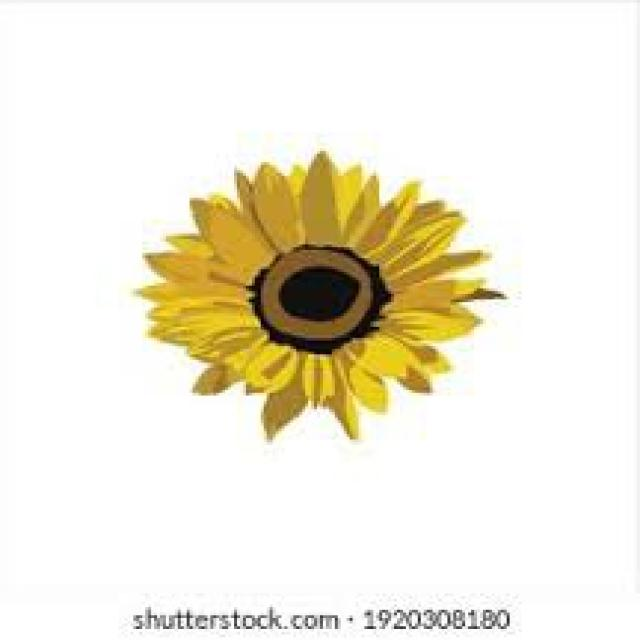sunflower: (133, 148, 507, 440)
